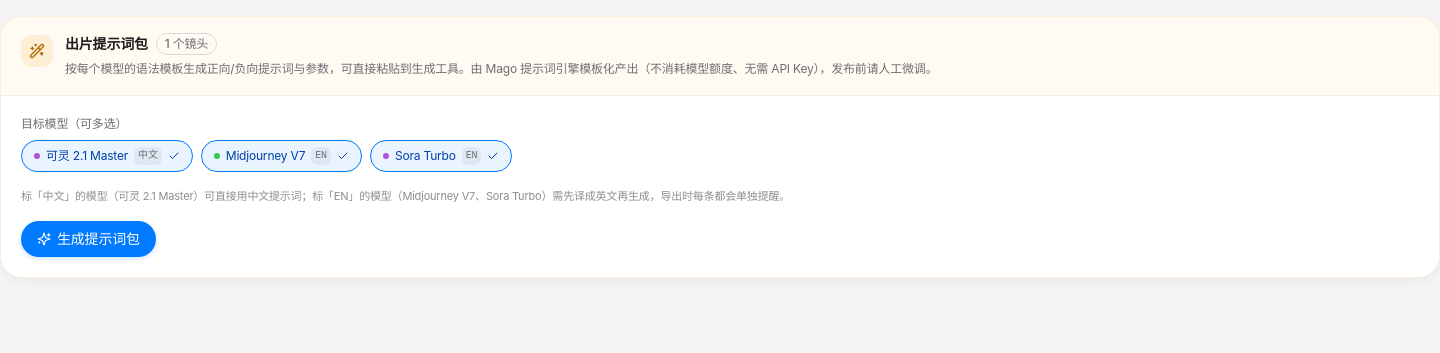
Test: PromptPackPanel › shows the server reason when generation is rejected
What coordinates should you click on to do the following:
click the button "生成提示词包"
I would click on:
 (88, 239)
Its box is [21, 221, 156, 257].
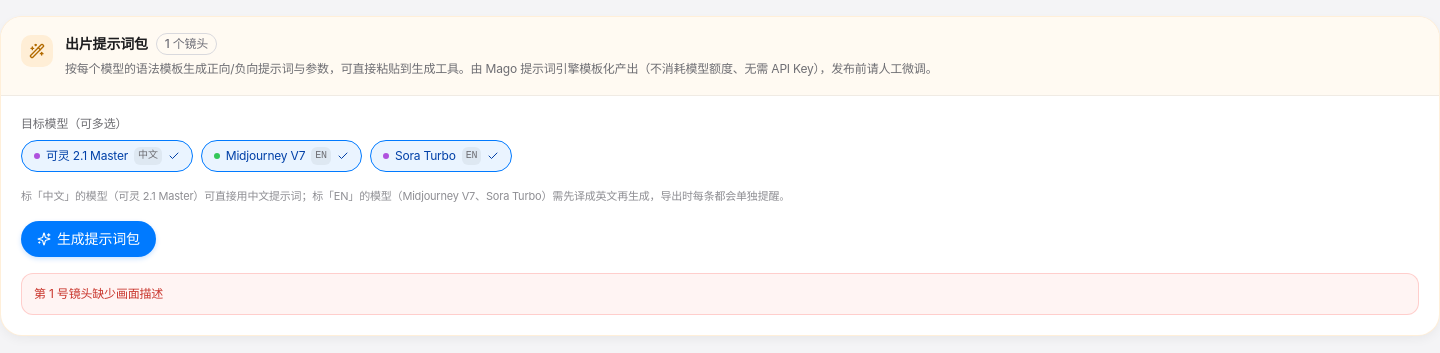
Result: the text "第 1 号镜头缺少画面描述" is shown at [21, 273, 1419, 315]
